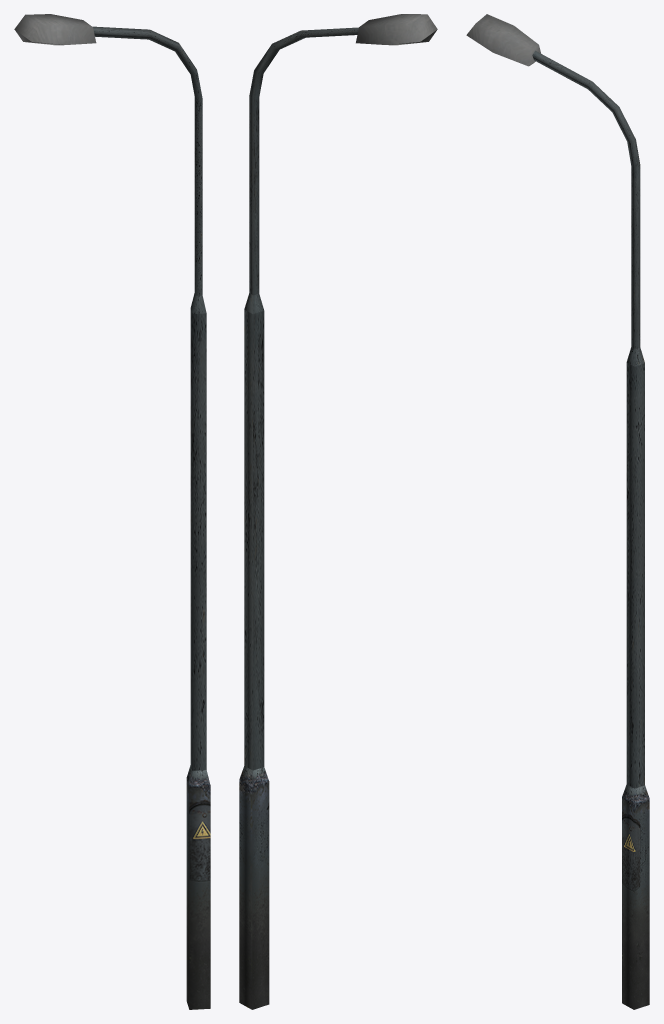
Rendered from Lamppost_LOD2.fbx.
3 views of the same model, side by side, from view 1: azimuth 30°, elevation 25°; view 2: azimuth 150°, elevation 25°; view 3: azimuth 330°, elevation 25° (orthographic). The views are drawn at different scales.
Visible parts, largest first — view 1: polySurface1505; view 2: polySurface1505; view 3: polySurface1505.
Part boxes in pixels (<box>): polySurface1505: <box>14,14,210,1009</box>; polySurface1505: <box>239,14,437,1009</box>; polySurface1505: <box>466,14,649,1009</box>.
Size of the model in its own units: 1.58 by 8.28 by 0.3358.
